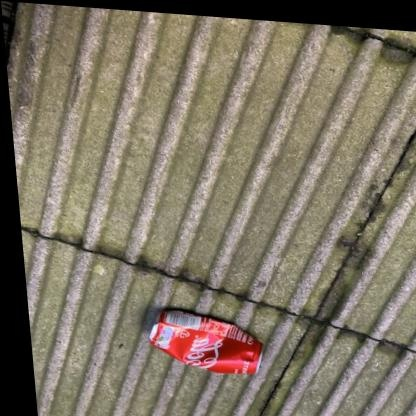trash: (149, 309, 262, 374)
